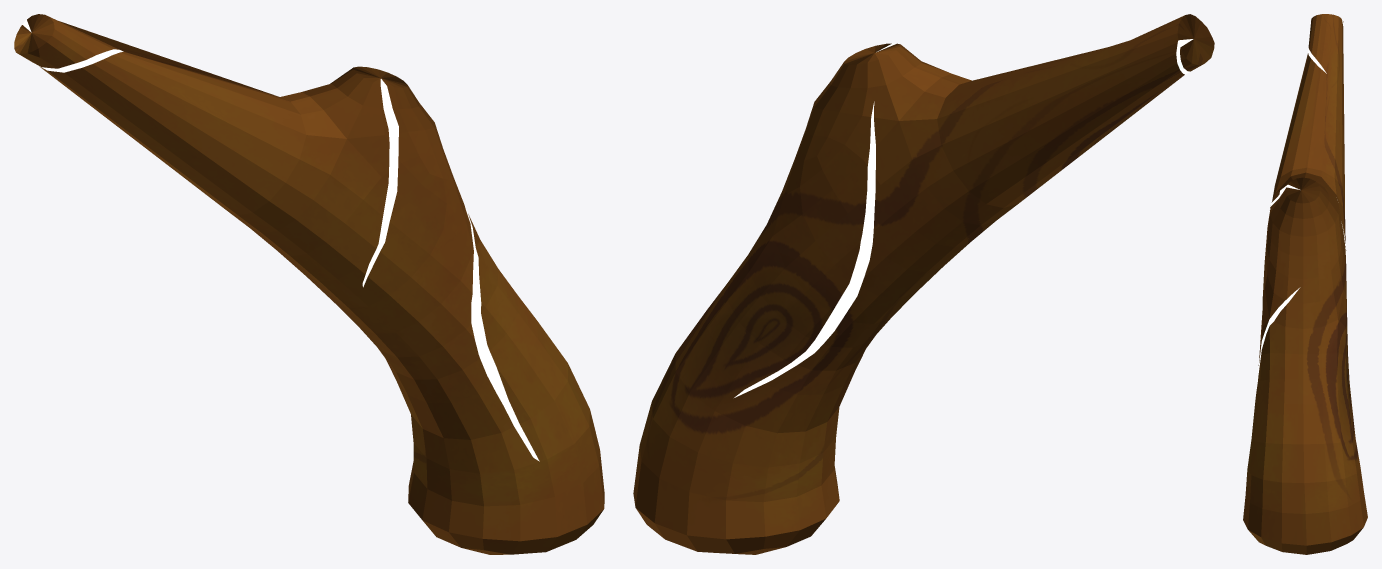
Rendered from Sappling.fbx.
3 views of the same model, side by side, from view 1: azimuth 30°, elevation 25°; view 2: azimuth 150°, elevation 25°; view 3: azimuth 270°, elevation 25° (orthographic). The views are drawn at different scales.
Parts seen in each view (by area): view 1: Tree; view 2: Tree; view 3: Tree.
Part boxes in pixels (x1,y1,x2,y2): Tree: [14, 14, 604, 554]; Tree: [633, 14, 1214, 554]; Tree: [1243, 14, 1367, 554].
Size of the model in its own units: 139 by 148 by 42.61.
